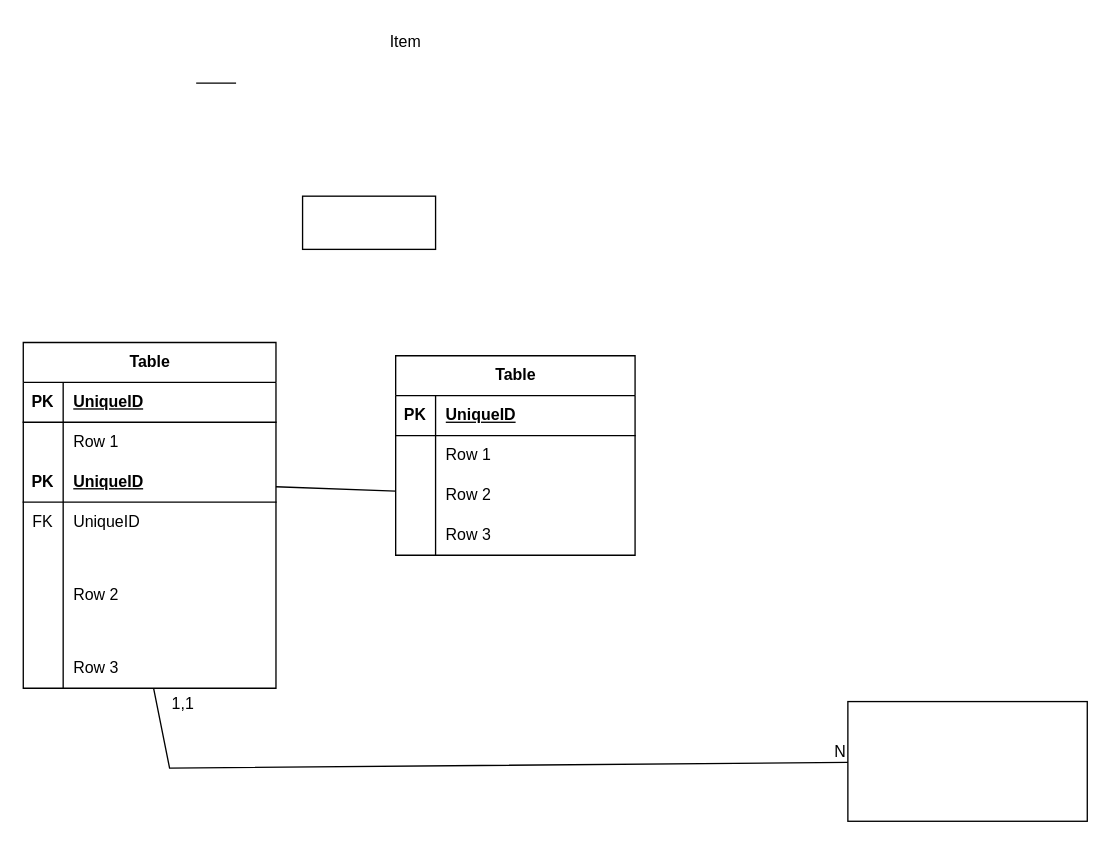
Some shapes in this 1111 by 845 pixel diagram are drawn without their labels. The centre of each missing label's shape, as x and y in pixels:
"Entity" goes at pixel 368 222.
"Tablename PK uniqueId FK1 foreignKey fieldname" goes at pixel 967 760.
